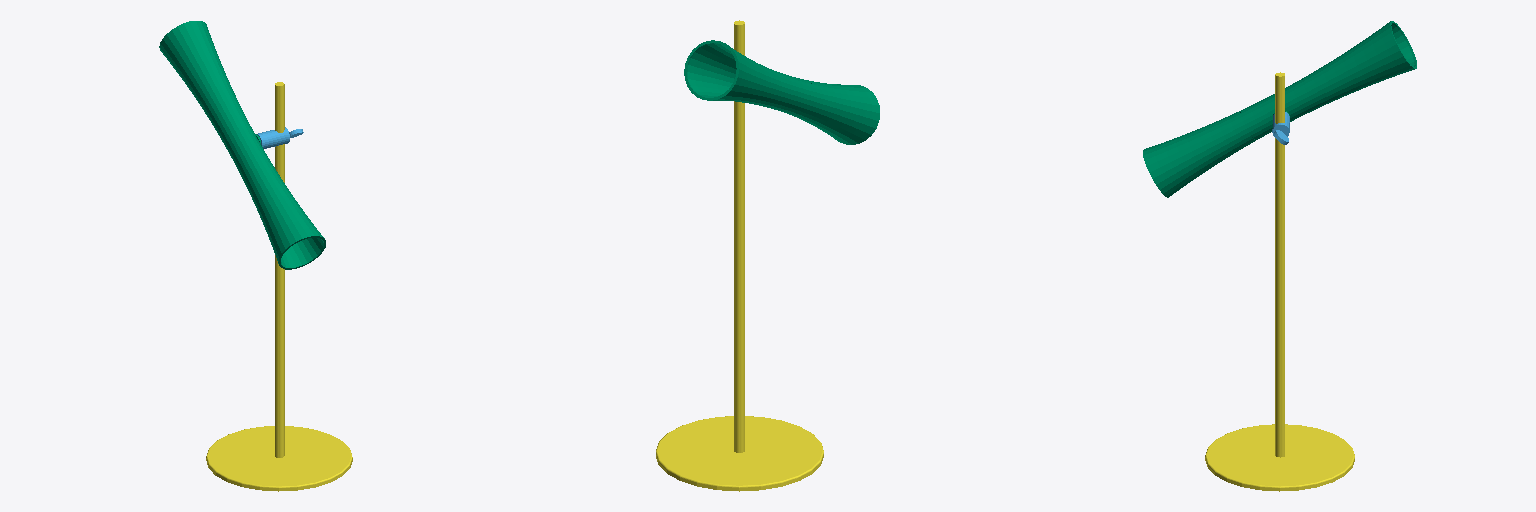
URDF robot description (partnet_923097cec128ae77469cbaa3d6420fb4):
<?xml version="1.0" ?>
<robot name="partnet_923097cec128ae77469cbaa3d6420fb4">
	<link name="base"/>
	<link name="link_0">
		<visual name="connector-6">
			<origin xyz="0.0037339010132644186 0 0.08768519711321243"/>
			<geometry>
				<mesh filename="textured_objs/original-3.obj"/>
			</geometry>
		</visual>
		<visual name="connector-6">
			<origin xyz="0.0037339010132644186 0 0.08768519711321243"/>
			<geometry>
				<mesh filename="textured_objs/original-5.obj"/>
			</geometry>
		</visual>
		<collision>
			<origin xyz="0.0037339010132644186 0 0.08768519711321243"/>
			<geometry>
				<mesh filename="textured_objs/original-3.obj"/>
			</geometry>
		</collision>
		<collision>
			<origin xyz="0.0037339010132644186 0 0.08768519711321243"/>
			<geometry>
				<mesh filename="textured_objs/original-5.obj"/>
			</geometry>
		</collision>
	</link>
	<joint name="joint_0" type="continuous">
		<origin xyz="0.0 0 0.0"/>
		<axis xyz="0 1 0"/>
		<child link="link_0"/>
		<parent link="link_0_helper"/>
	</joint>
	<link name="link_1">
		<visual name="lamp_shade-21">
			<origin xyz="0.007008556085055672 -0.5485731223044039 5.973201505557149e-05"/>
			<geometry>
				<mesh filename="textured_objs/original-12.obj"/>
			</geometry>
		</visual>
		<visual name="lamp_shade-21">
			<origin xyz="0.007008556085055672 -0.5485731223044039 5.973201505557149e-05"/>
			<geometry>
				<mesh filename="textured_objs/original-10.obj"/>
			</geometry>
		</visual>
		<visual name="lamp_shade-21">
			<origin xyz="0.007008556085055672 -0.5485731223044039 5.973201505557149e-05"/>
			<geometry>
				<mesh filename="textured_objs/original-4.obj"/>
			</geometry>
		</visual>
		<visual name="lamp_shade-21">
			<origin xyz="0.007008556085055672 -0.5485731223044039 5.973201505557149e-05"/>
			<geometry>
				<mesh filename="textured_objs/original-9.obj"/>
			</geometry>
		</visual>
		<visual name="lamp_shade-21">
			<origin xyz="0.007008556085055672 -0.5485731223044039 5.973201505557149e-05"/>
			<geometry>
				<mesh filename="textured_objs/original-13.obj"/>
			</geometry>
		</visual>
		<visual name="lamp_shade-21">
			<origin xyz="0.007008556085055672 -0.5485731223044039 5.973201505557149e-05"/>
			<geometry>
				<mesh filename="textured_objs/original-11.obj"/>
			</geometry>
		</visual>
		<collision>
			<origin xyz="0.007008556085055672 -0.5485731223044039 5.973201505557149e-05"/>
			<geometry>
				<mesh filename="textured_objs/original-12.obj"/>
			</geometry>
		</collision>
		<collision>
			<origin xyz="0.007008556085055672 -0.5485731223044039 5.973201505557149e-05"/>
			<geometry>
				<mesh filename="textured_objs/original-10.obj"/>
			</geometry>
		</collision>
		<collision>
			<origin xyz="0.007008556085055672 -0.5485731223044039 5.973201505557149e-05"/>
			<geometry>
				<mesh filename="textured_objs/original-4.obj"/>
			</geometry>
		</collision>
		<collision>
			<origin xyz="0.007008556085055672 -0.5485731223044039 5.973201505557149e-05"/>
			<geometry>
				<mesh filename="textured_objs/original-9.obj"/>
			</geometry>
		</collision>
		<collision>
			<origin xyz="0.007008556085055672 -0.5485731223044039 5.973201505557149e-05"/>
			<geometry>
				<mesh filename="textured_objs/original-13.obj"/>
			</geometry>
		</collision>
		<collision>
			<origin xyz="0.007008556085055672 -0.5485731223044039 5.973201505557149e-05"/>
			<geometry>
				<mesh filename="textured_objs/original-11.obj"/>
			</geometry>
		</collision>
	</link>
	<joint name="joint_1" type="continuous">
		<origin xyz="-0.003274655071791253 0.5485731223044039 0.08762546509815686"/>
		<axis xyz="-0.008522417757429682 0 0.9999636835383413"/>
		<child link="link_1"/>
		<parent link="link_0"/>
	</joint>
	<link name="link_2">
		<visual name="lamp_pole-17">
			<origin xyz="0 0 0"/>
			<geometry>
				<mesh filename="textured_objs/original-7.obj"/>
			</geometry>
		</visual>
		<visual name="lamp_base_part-22">
			<origin xyz="0 0 0"/>
			<geometry>
				<mesh filename="textured_objs/original-1.obj"/>
			</geometry>
		</visual>
		<visual name="lamp_base_part-22">
			<origin xyz="0 0 0"/>
			<geometry>
				<mesh filename="textured_objs/original-6.obj"/>
			</geometry>
		</visual>
		<collision>
			<origin xyz="0 0 0"/>
			<geometry>
				<mesh filename="textured_objs/original-7.obj"/>
			</geometry>
		</collision>
		<collision>
			<origin xyz="0 0 0"/>
			<geometry>
				<mesh filename="textured_objs/original-1.obj"/>
			</geometry>
		</collision>
		<collision>
			<origin xyz="0 0 0"/>
			<geometry>
				<mesh filename="textured_objs/original-6.obj"/>
			</geometry>
		</collision>
	</link>
	<joint name="joint_2" type="fixed">
		<origin rpy="1.570796326794897 0 -1.570796326794897" xyz="0 0 0"/>
		<child link="link_2"/>
		<parent link="base"/>
	</joint>
	<link name="link_0_helper"/>
	<joint name="joint_3" type="prismatic">
		<origin xyz="-0.0037339010132644186 0 -0.08768519711321243"/>
		<axis xyz="0 1 0"/>
		<child link="link_0_helper"/>
		<parent link="link_2"/>
		<limit lower="-0.4" upper="0.1280000000000001"/>
	</joint>
</robot>

--- What the picture shows (computed from the rendered views, not written in the file) ---
The picture shows the robot from 3 angles, left to right: view 1: azimuth 30°, elevation 25°; view 2: azimuth 150°, elevation 25°; view 3: azimuth 270°, elevation 25°; orthographic projection.
Model partnet_923097cec128ae77469cbaa3d6420fb4 with 5 links and 4 joints (2 continuous, 1 prismatic, 1 fixed), rooted at base, posed all joints at 0.
Visible links, largest first — view 1: link_1, link_2, link_0; view 2: link_2, link_1; view 3: link_2, link_1.
Link boxes in pixels (left/top/right/bottom): link_1: left=159, top=21, right=325, bottom=269; link_2: left=206, top=82, right=352, bottom=491; link_0: left=257, top=127, right=303, bottom=148; link_2: left=656, top=20, right=823, bottom=491; link_1: left=684, top=40, right=879, bottom=144; link_2: left=1205, top=72, right=1354, bottom=491; link_1: left=1143, top=21, right=1416, bottom=197.
Size in the robot's own frame: 0.5796 by 1.06 by 1.78 metres.
Meshes: 11 distinct files referenced, 11 mesh visuals loaded (11 OBJ).
